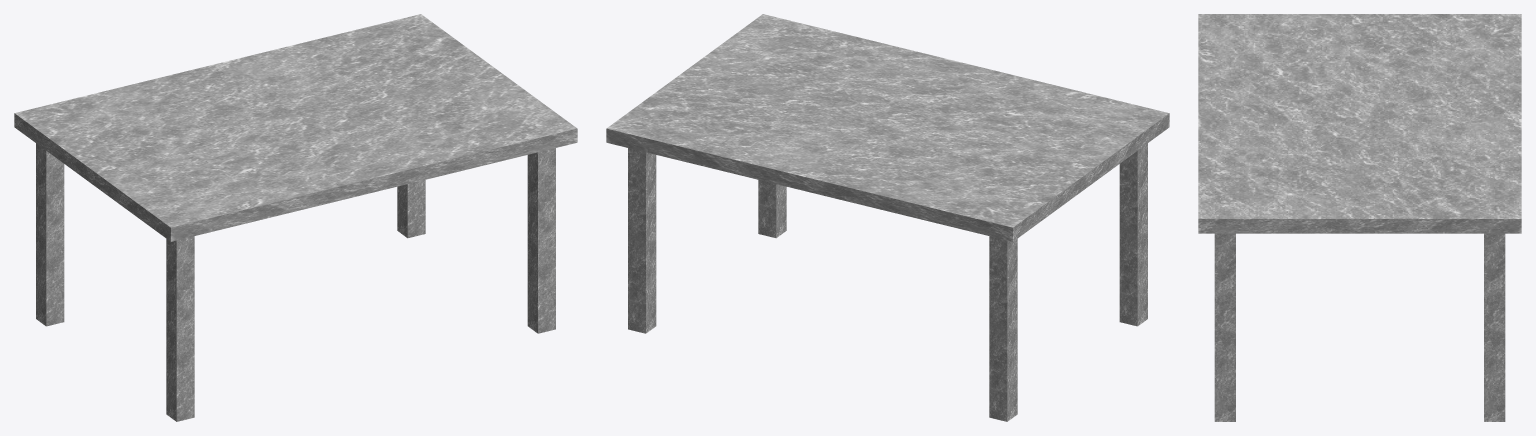
File: table.glb
3 views of the same model, side by side, from view 1: azimuth 30°, elevation 25°; view 2: azimuth 150°, elevation 25°; view 3: azimuth 270°, elevation 25° (orthographic). The views are drawn at different scales.
Parts seen in each view (by area): view 1: Cube, Cube.002, Cube.003, Cube.005, Cube.004; view 2: Cube, Cube.005, Cube.004, Cube.002, Cube.003; view 3: Cube, Cube.004, Cube.003.
Boxes of the visible parts, x1=… form: Cube: x1=14, y1=14, x2=577, y2=241; Cube.002: x1=166, y1=236, x2=194, y2=421; Cube.003: x1=527, y1=148, x2=555, y2=333; Cube.005: x1=36, y1=143, x2=64, y2=326; Cube.004: x1=397, y1=180, x2=425, y2=238; Cube: x1=606, y1=14, x2=1169, y2=241; Cube.005: x1=989, y1=236, x2=1017, y2=421; Cube.004: x1=628, y1=148, x2=656, y2=333; Cube.002: x1=1119, y1=143, x2=1147, y2=326; Cube.003: x1=758, y1=180, x2=786, y2=238; Cube: x1=1198, y1=14, x2=1521, y2=233; Cube.004: x1=1484, y1=233, x2=1505, y2=421; Cube.003: x1=1214, y1=233, x2=1235, y2=421.
Size of the model in its own units: 4.5 by 2.15 by 3.
Materials: 1 (1 with a texture image).
